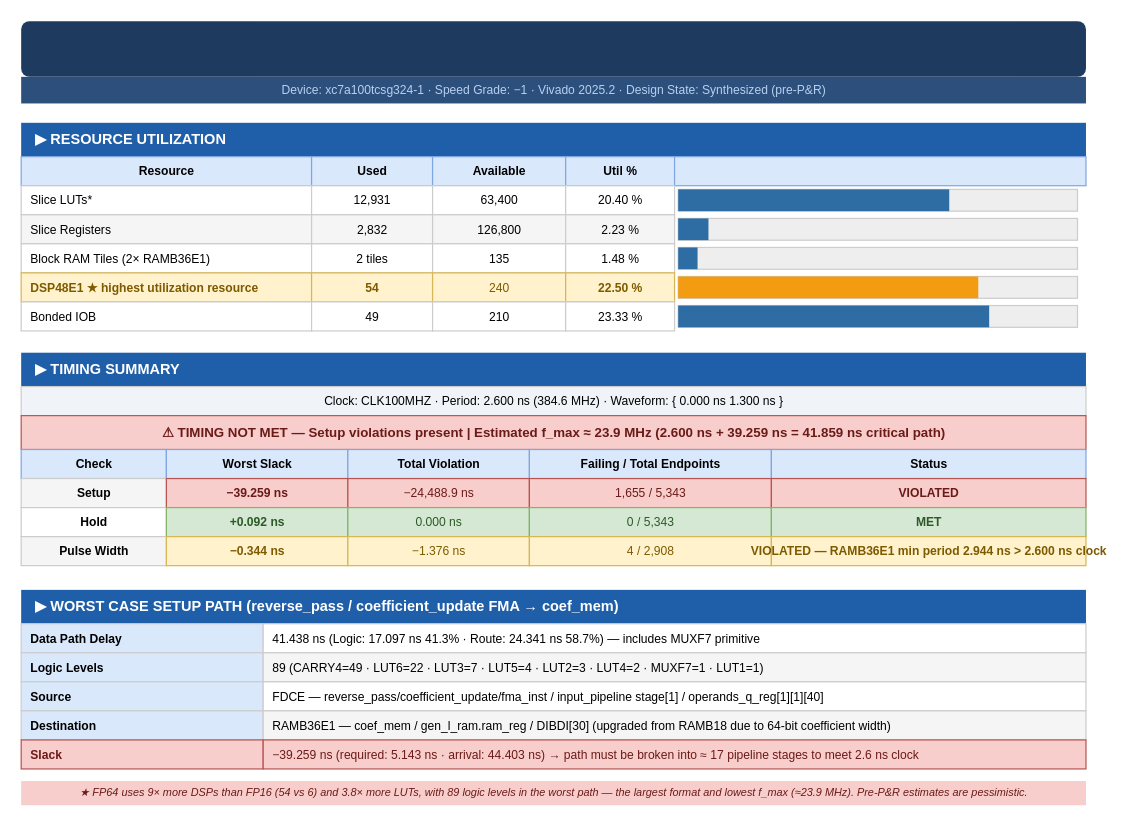
Some shapes in this 1128 by 825 pixel diagram are drawn without their labels. The centre of each missing label's shape, as x and y in pixels:
"FP64 — Polynomial Regression Synthesis Summary" goes at point 553,48.
"Usage Bar (full bar = 30 %)" goes at point 879,170.
